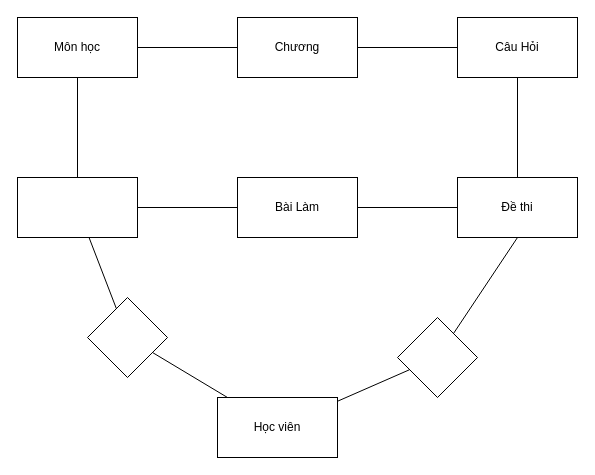
This 595x475 diagram has some shape labels left out. The centre of each missing label's shape, as x and y in pixels:
Làm: [437,357]
Lớp học: [77,207]
Thuộc: [127,337]
